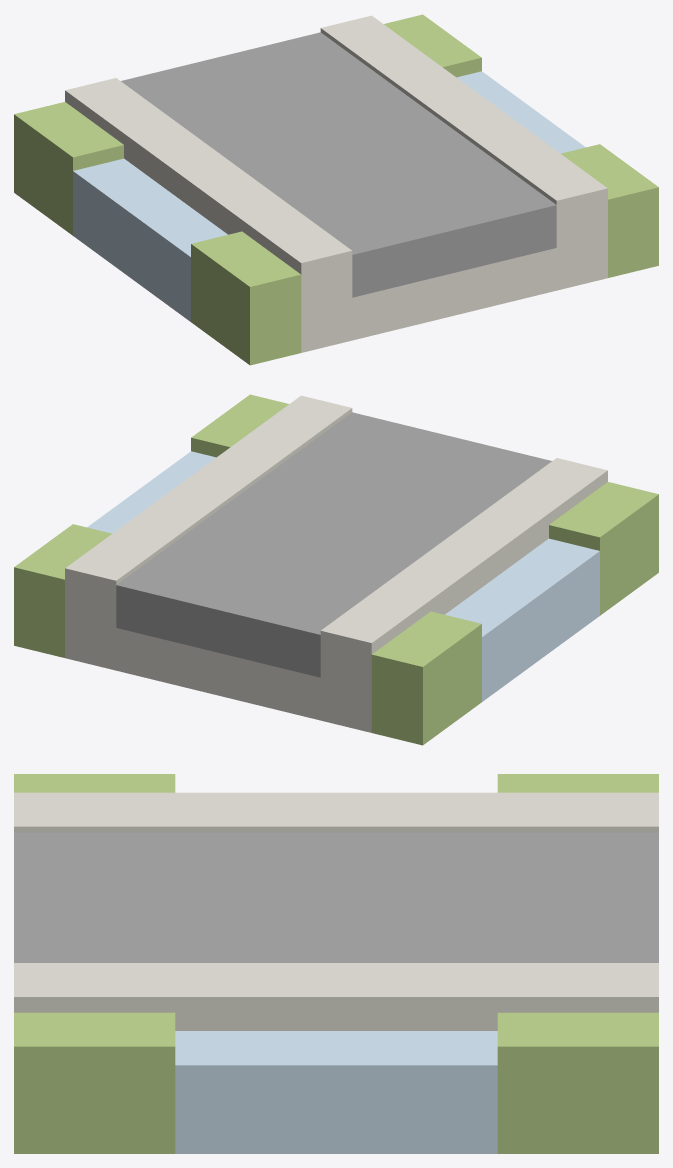
File: road_tile_188.glb
3 views of the same model, one above another, from view 1: azimuth 30°, elevation 25°; view 2: azimuth 150°, elevation 25°; view 3: azimuth 270°, elevation 25° (orthographic). The views are drawn at different scales.
Visible parts, largest first — view 1: roadTile_188; view 2: roadTile_188; view 3: roadTile_188.
Boxes of the visible parts, x1,y1,x2,y2 form: roadTile_188: (14, 14, 658, 365); roadTile_188: (14, 394, 658, 745); roadTile_188: (14, 774, 658, 1153).
Size of the model in its own units: 3 by 0.63 by 3.
